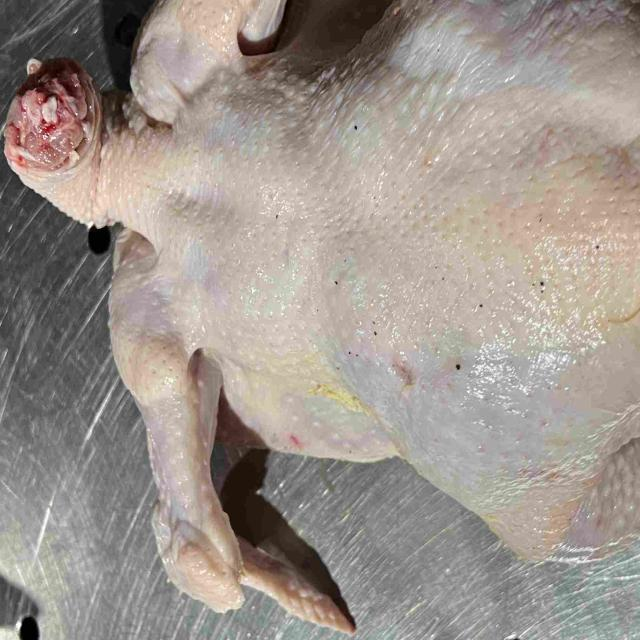back: (149, 71, 640, 417)
leg: (402, 346, 640, 561), (381, 0, 640, 141)
neck: (3, 59, 172, 232)
wing: (109, 231, 355, 633), (131, 0, 288, 121)
